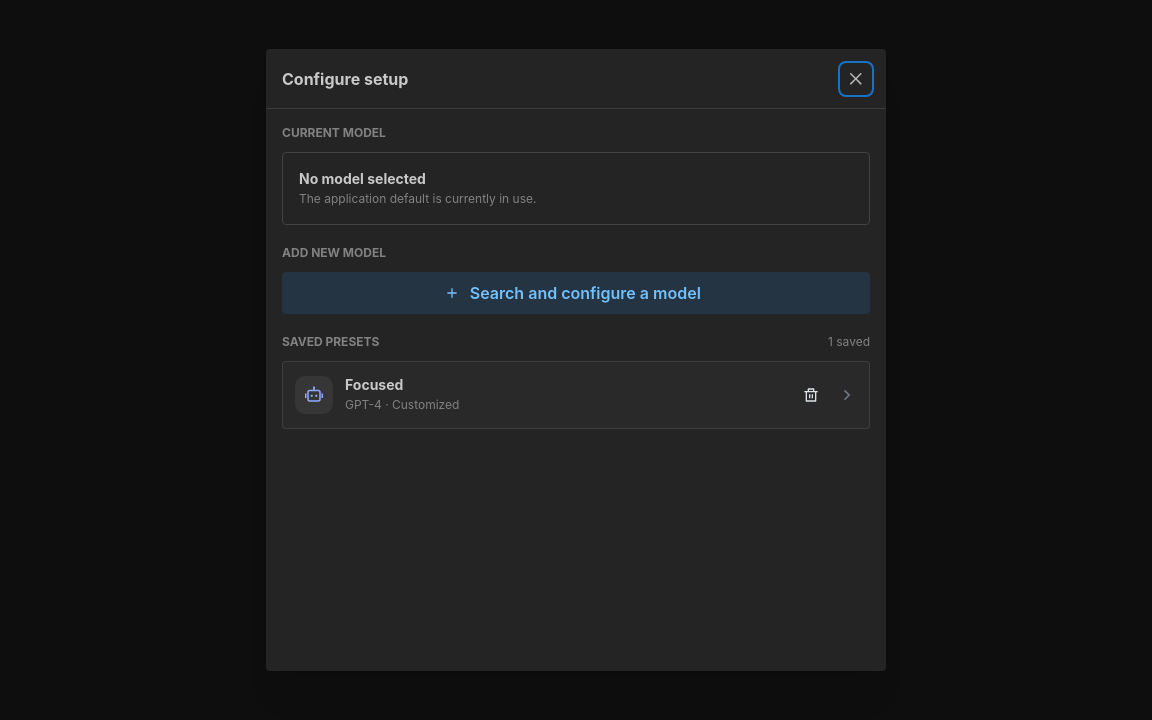
Test case: ModelSelectorModal › automatically updates a saved preset in place
Click the text "Focused": point(374, 385) [345,375,403,395]
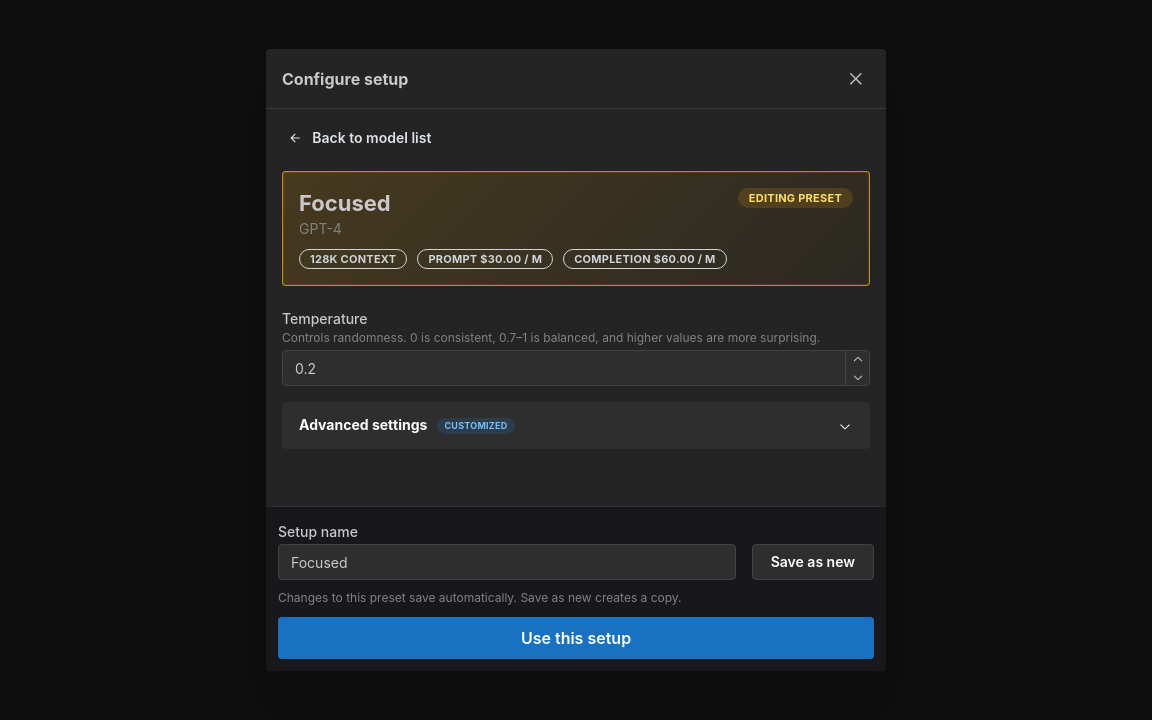
Replace the text in the field labelled "Temperature" with "0.7": point(576, 368) [282,350,870,386]
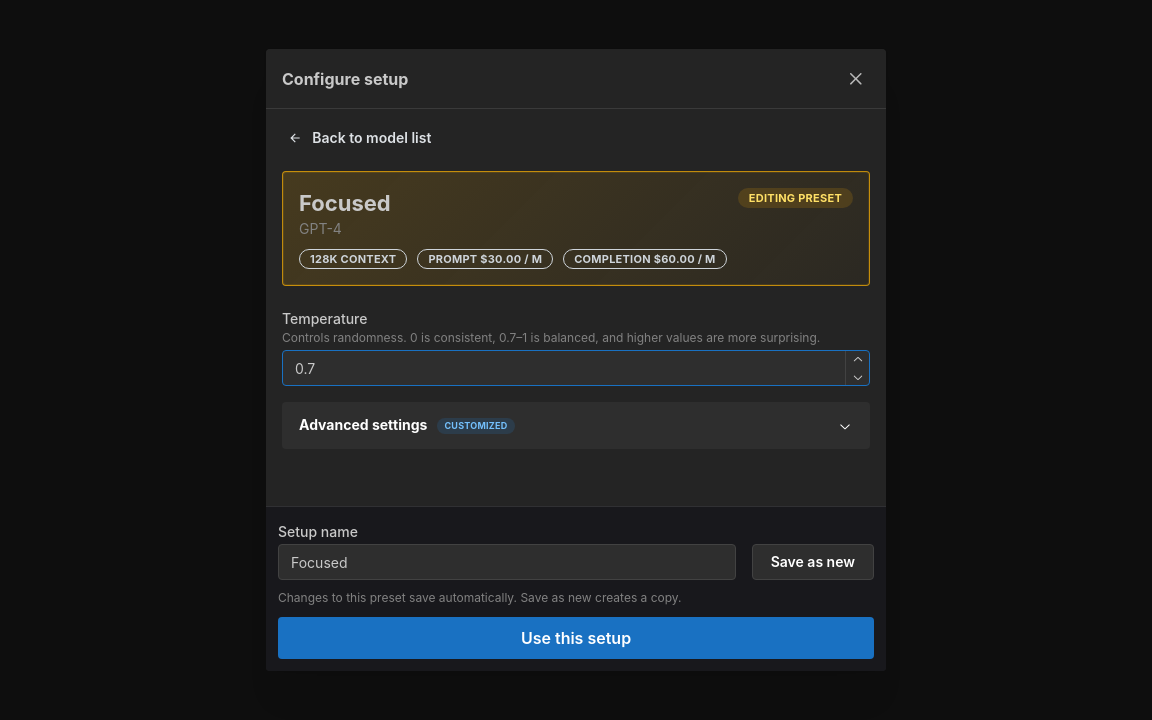
Replace the text in the field named "Preset name for GPT-4" with "Focused revision": point(507, 562) [278,544,736,580]
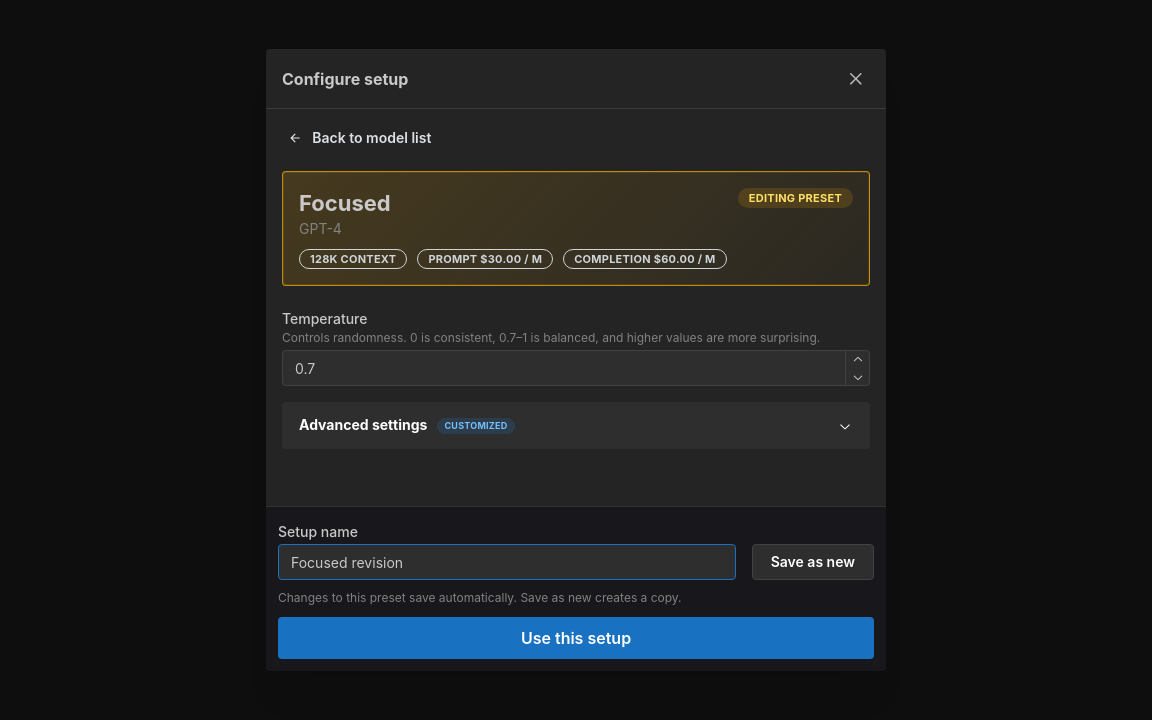
Click the button "Back to model list": point(361, 138) [282,125,440,151]
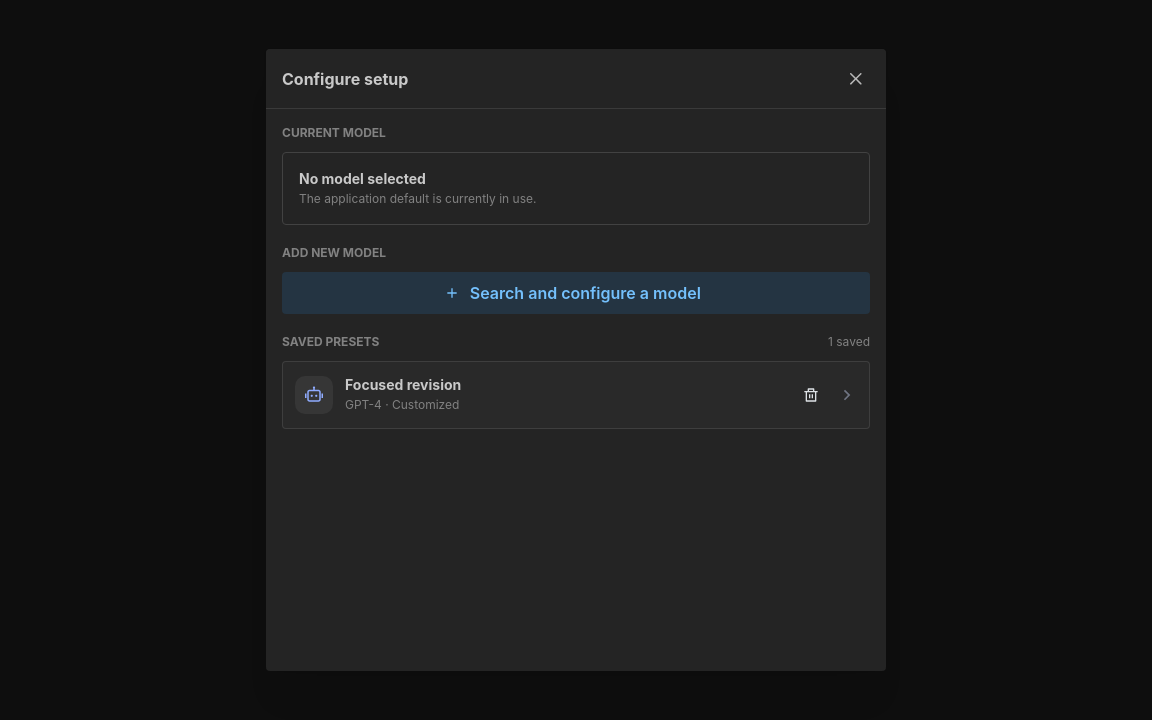
Check: the text "Focused revision" is shown, box [345,375,461,395]
Check: the text "1 saved" is shown, box [828,334,870,351]
